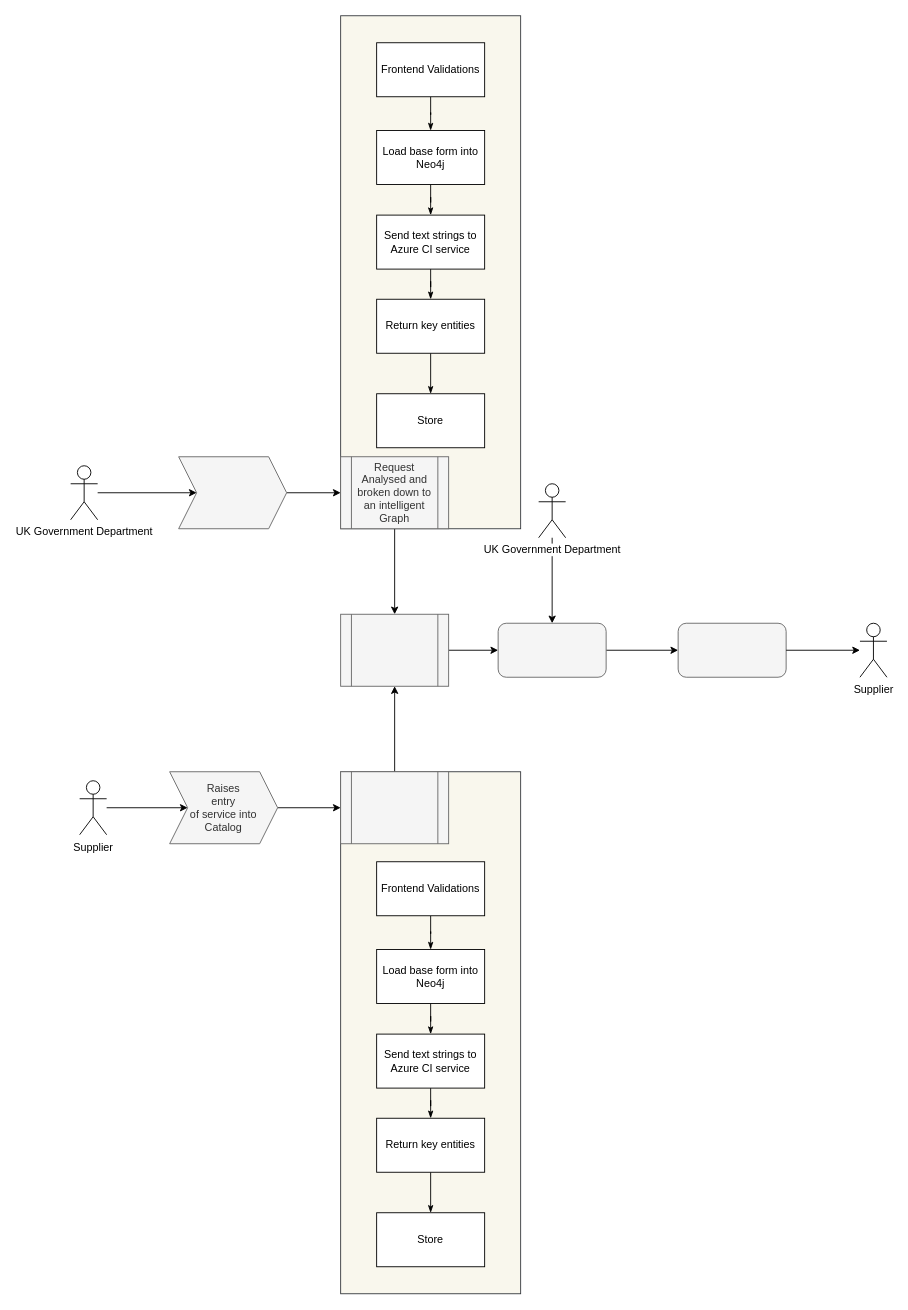
Image size: 908x1310. Some labels were removed from this diagram. Each missing label, with the box of its shape:
Matching Engine: (340, 613, 449, 686)
Raises request for Service: (178, 456, 287, 529)
Result Set reviewed: (497, 622, 606, 677)
Selected suppliers identified: (677, 622, 786, 677)
Service analysed and broken down to an intelligent Graph: (340, 771, 449, 844)
